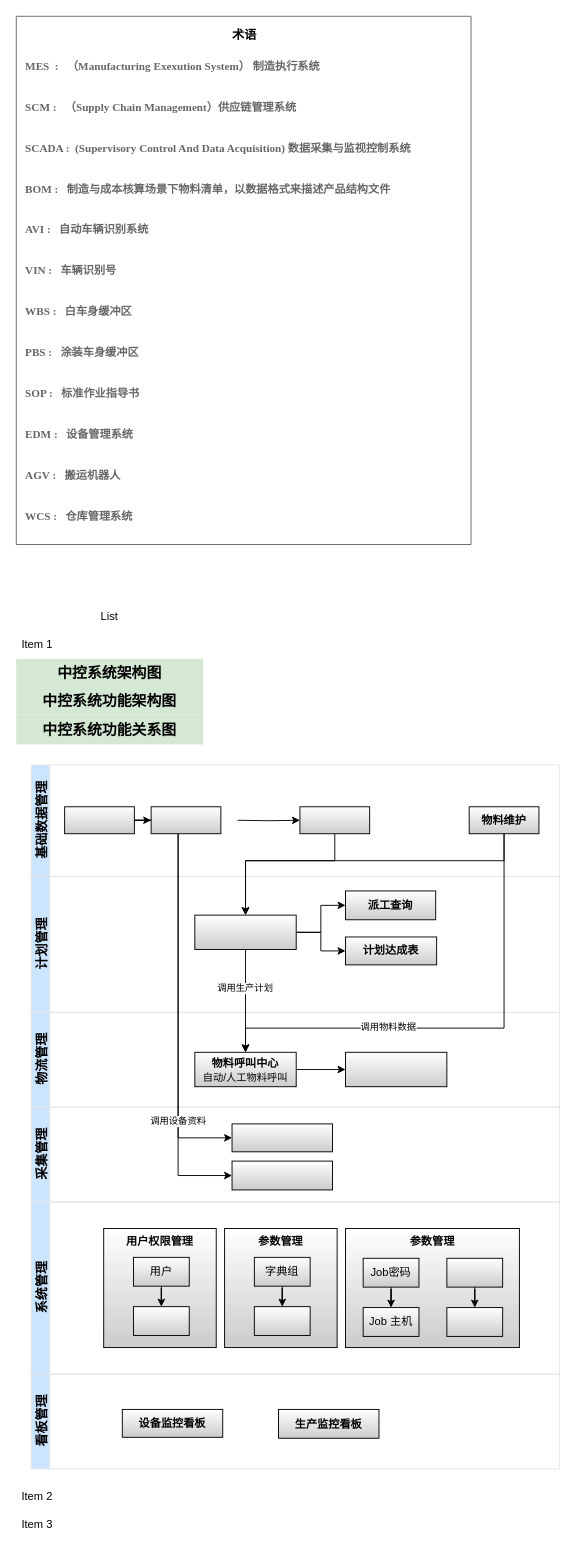
Some shapes in this 576 by 1555 pixel diagram are drawn without their labels. The centre of each missing label's shape, as x and y in pixels:
"Job" goes at point (474, 1321).
"Job 组" goes at point (474, 1272).
"NC程序管理" goes at point (281, 1137).
"产线维护" goes at point (99, 820).
"参数组" goes at point (281, 1320).
"工作中心" goes at point (334, 820).
"工单管理 计划同步/制定/下达" goes at point (245, 932).
"用户组" goes at point (161, 1320).
"设备台账" goes at point (185, 820).
"配送记录" goes at point (396, 1069).
"采集数据上传" goes at point (281, 1175).
